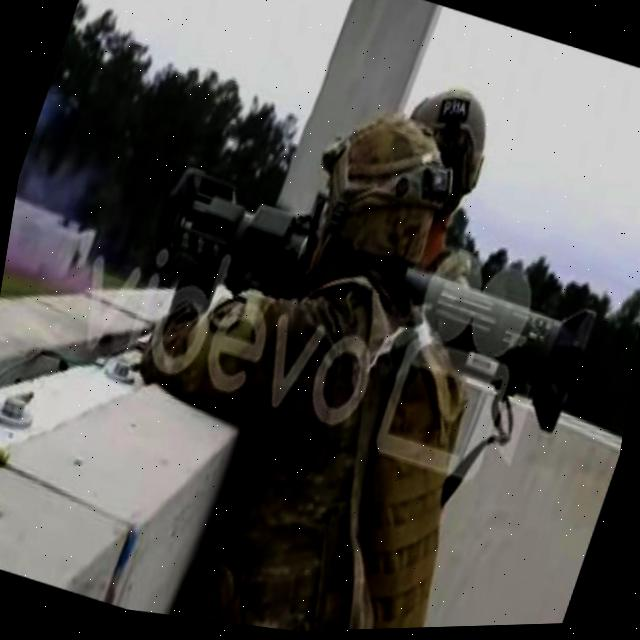rocket: (125, 145, 620, 462)
